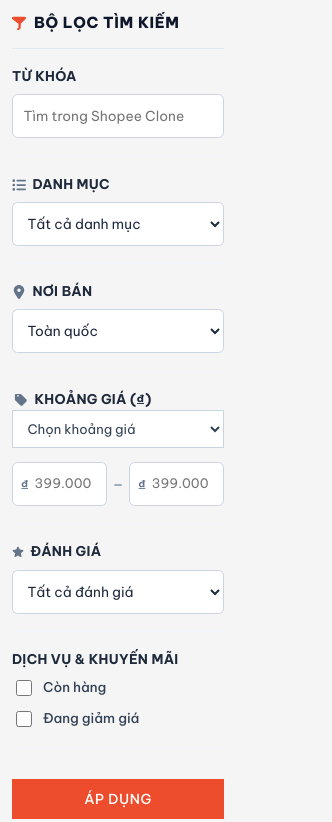
catalog components › formats and visualizes numbers in price range inputs with thousands separators
The image size is (332, 822).
In the field named "Giá thấp nhất": (59, 484) [12,462,107,506], type "1000"
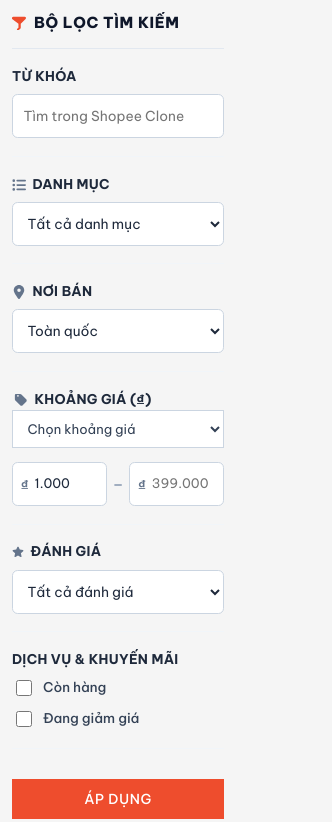
Result: the field named "Giá thấp nhất" holds "1.000" at [12,462,107,506]
In the field named "Giá cao nhất": (177, 484) [129,462,224,506], type "5000000"
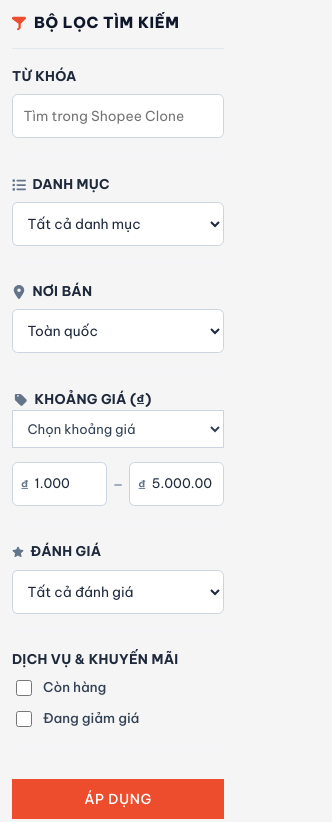
Result: the field named "Giá cao nhất" holds "5.000.000" at [129,462,224,506]
